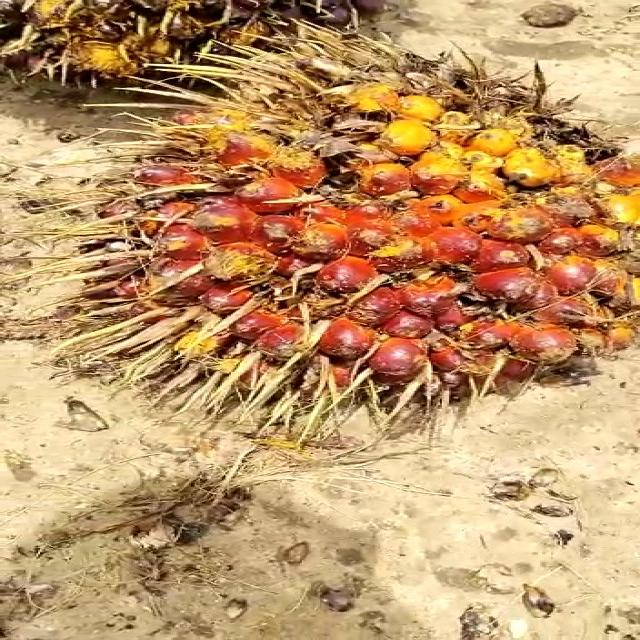palm oil: (70, 57, 640, 410)
